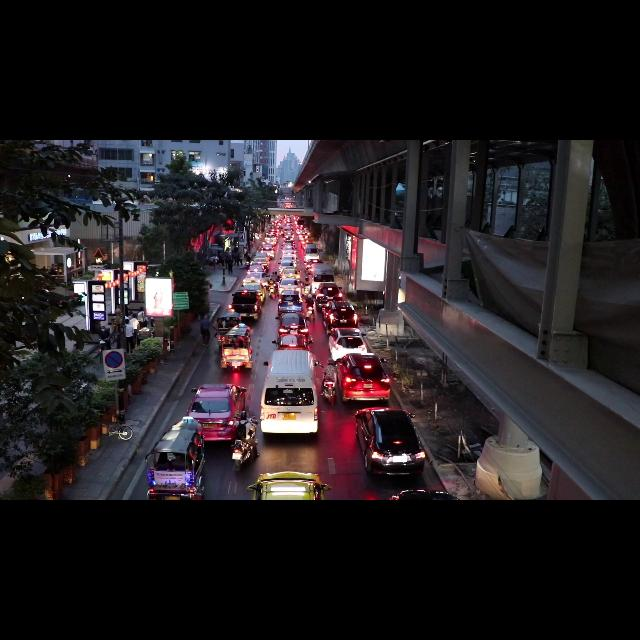car: (356, 408, 426, 473), (188, 384, 246, 440), (336, 353, 390, 401), (247, 472, 330, 499), (329, 328, 367, 360), (322, 301, 357, 334), (229, 289, 262, 319), (276, 313, 309, 337), (315, 283, 343, 308), (273, 334, 312, 350), (390, 490, 458, 499), (278, 290, 303, 313), (242, 283, 266, 302), (243, 272, 271, 285), (279, 278, 301, 292), (280, 268, 300, 279), (305, 258, 323, 270), (252, 258, 268, 271), (261, 244, 274, 258), (280, 260, 295, 269), (283, 250, 296, 260), (248, 264, 264, 272), (282, 255, 296, 264), (254, 252, 268, 258), (284, 244, 292, 249)
motorcycle: (232, 440, 254, 471), (321, 368, 335, 404), (322, 379, 335, 404), (306, 304, 314, 320), (268, 282, 276, 298), (245, 261, 250, 269)
